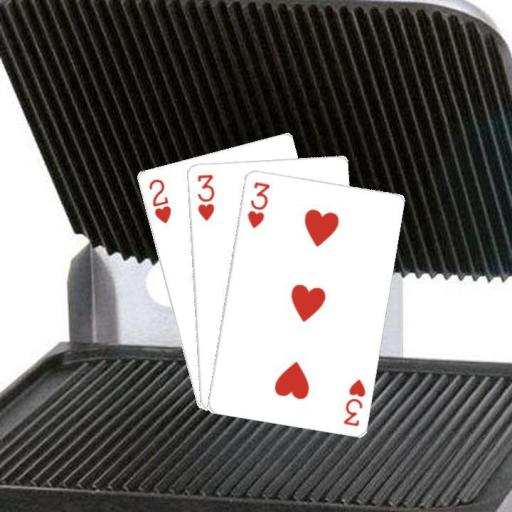2H: (145, 175, 173, 225)
3H: (244, 179, 272, 230), (340, 376, 367, 428), (194, 171, 216, 222)
